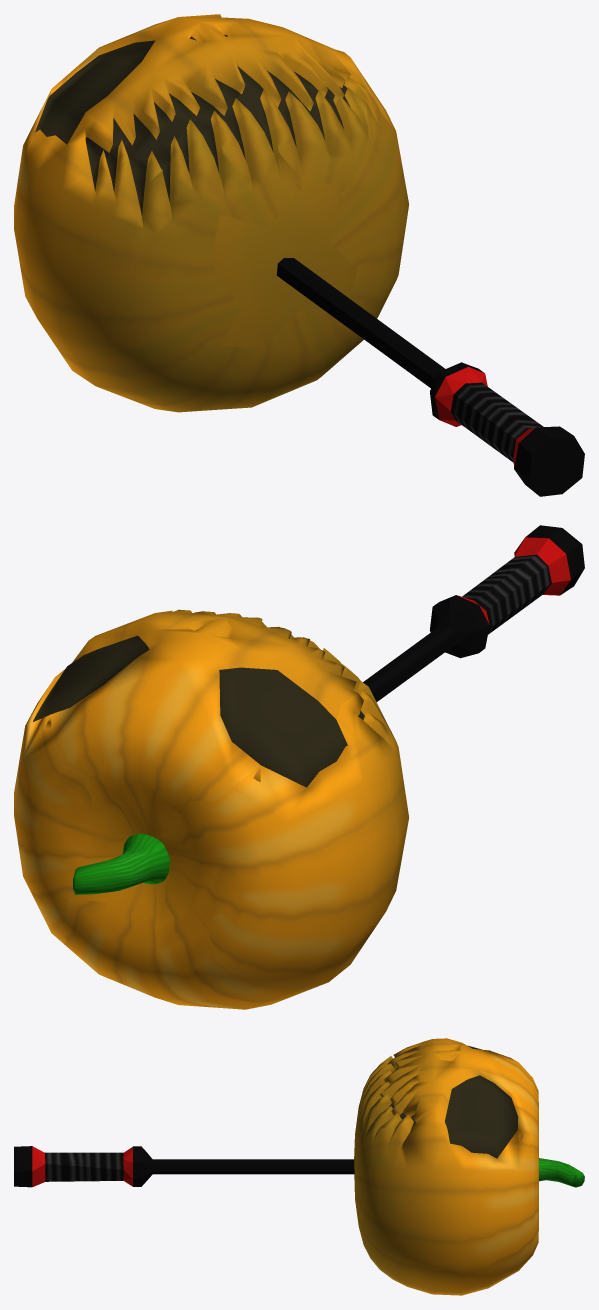
File: pumpkin-hummer.fbx
3 renders of one model, top to bottom at view 1: azimuth 30°, elevation 25°; view 2: azimuth 150°, elevation 25°; view 3: azimuth 270°, elevation 25°, orthographic. The views are drawn at different scales.
Parts seen in each view (by area): view 1: Cube; view 2: Cube; view 3: Cube.
Boxes of the visible parts, x1,y1,x2,y2 form: Cube: (14, 14, 584, 496); Cube: (14, 525, 584, 1009); Cube: (14, 1038, 584, 1295).
Size of the model in its own units: 0.5222 by 0.5222 by 1.17.
